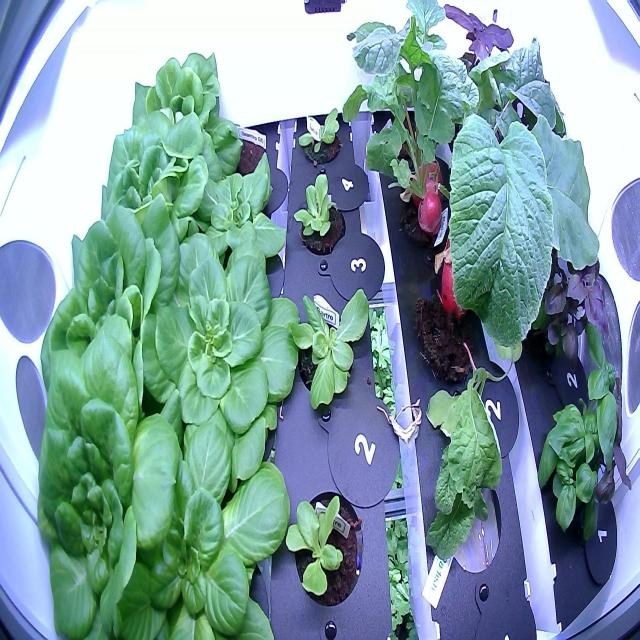Ready: (24, 336, 188, 640), (37, 205, 197, 436), (95, 128, 222, 258), (126, 44, 247, 180)
empty_pod: (435, 464, 513, 586)
pod: (222, 122, 270, 192)
young: (105, 402, 299, 640), (124, 223, 308, 466), (182, 148, 298, 278), (280, 274, 376, 418), (281, 478, 371, 615), (289, 165, 353, 266), (293, 97, 350, 177)
